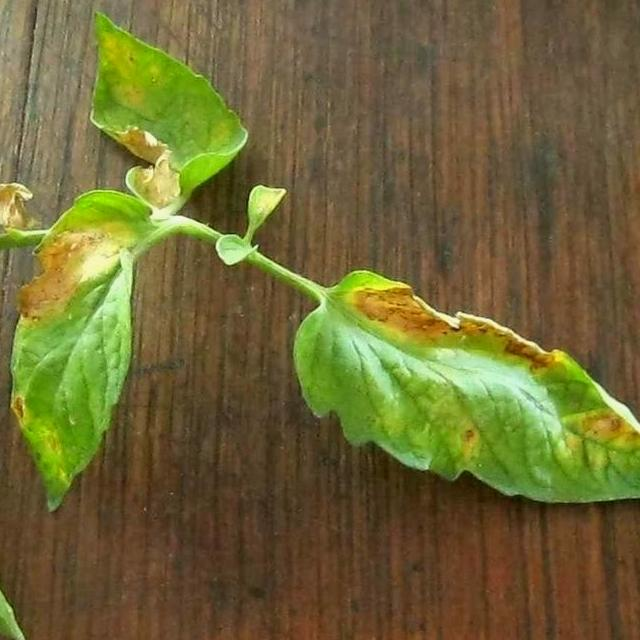Tomato Early blight leaf: (291, 272, 640, 526), (5, 176, 161, 525)
